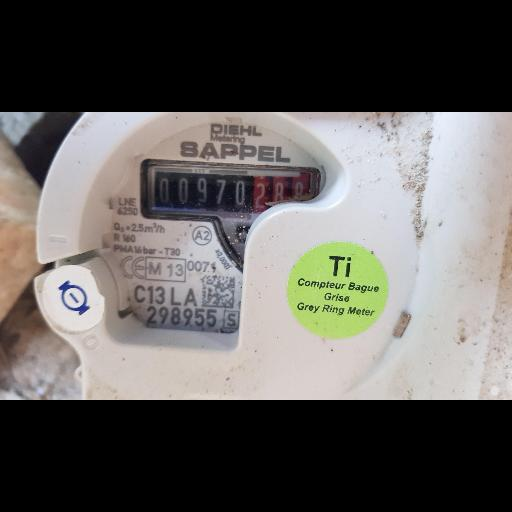0: (232, 175, 253, 214), (154, 171, 174, 208), (173, 173, 193, 209)
2: (251, 176, 271, 214)
7: (211, 174, 232, 212)
8: (290, 173, 311, 203), (270, 177, 290, 208)
9: (192, 174, 212, 211)
border_water_meter_number: (147, 166, 317, 219)
